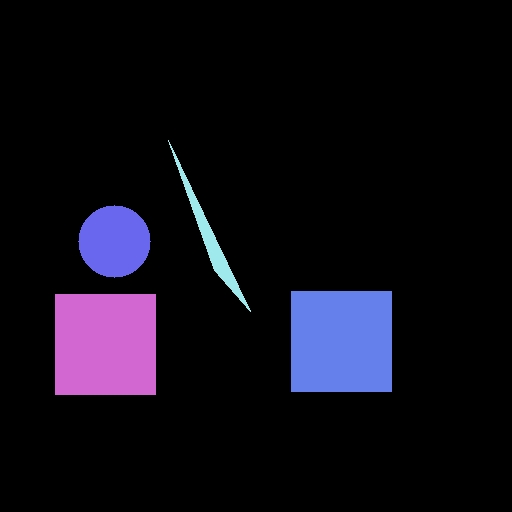circle: (78, 205, 150, 277)
square: (55, 294, 155, 394), (291, 291, 391, 391)
triangle: (168, 140, 250, 311)
